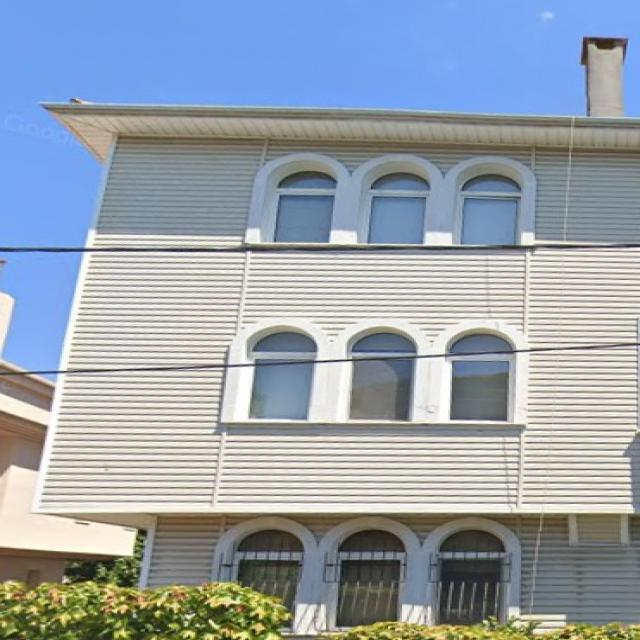Building: (34, 104, 640, 640)
